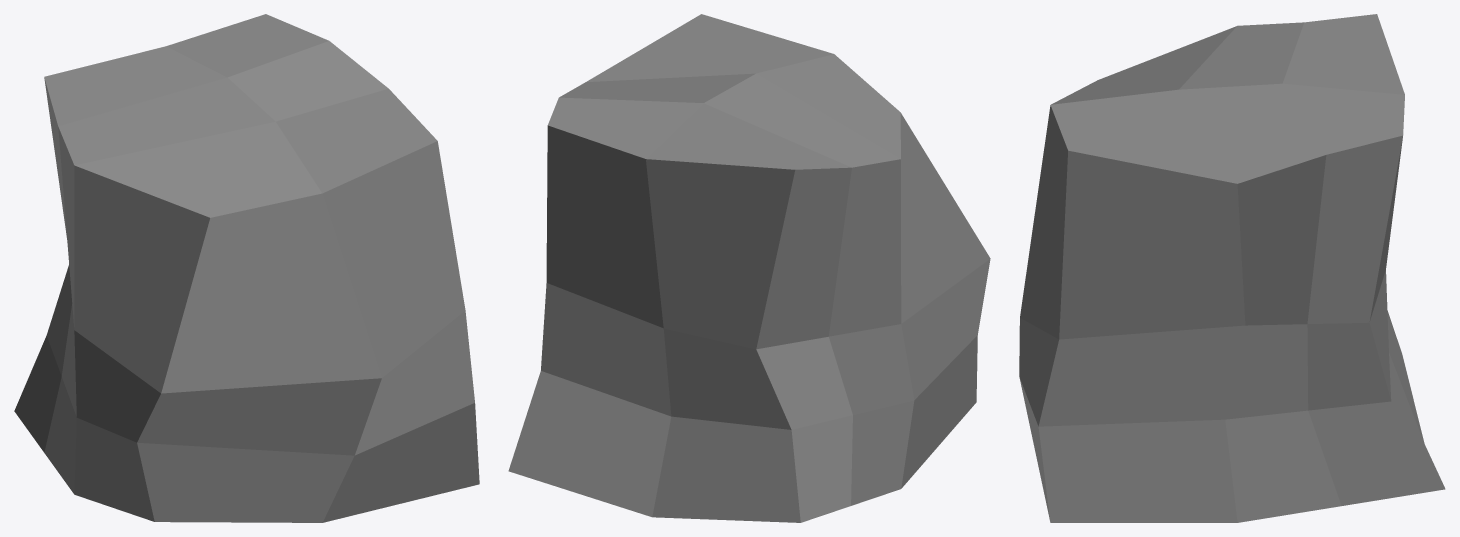
The model's file is roccia3.obj.
3 views of the same model, side by side, from view 1: azimuth 30°, elevation 25°; view 2: azimuth 150°, elevation 25°; view 3: azimuth 270°, elevation 25° (orthographic). The views are drawn at different scales.
Visible parts, largest first — view 1: Rock_25; view 2: Rock_25; view 3: Rock_25.
Part boxes in pixels (x1,y1,x2,y2): Rock_25: [14, 14, 479, 522]; Rock_25: [508, 14, 990, 522]; Rock_25: [1019, 14, 1445, 522].
Bounding box in the file's own units: 3.75 × 4 × 4.18.
1 material, 1 textured.
